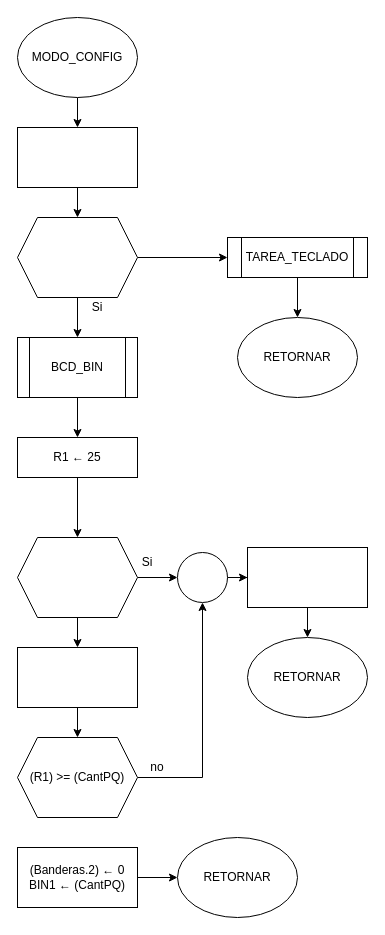
This 385x935 diagram has some shape labels left out. The shapes that lost their labels are listed below. From the top down, each one's box as (x1, y1, x2, y2) in pixels, then its label:
(16, 126, 138, 188): BIN1 ← (CantPQ)
(16, 216, 138, 298): Banderas.2 = 1
(16, 536, 138, 618): (R1) > (CantPQ)
(246, 546, 368, 608): (Banderas.2) ← 0 CantPQ ← 0
(16, 646, 138, 708): R1 ← 85
